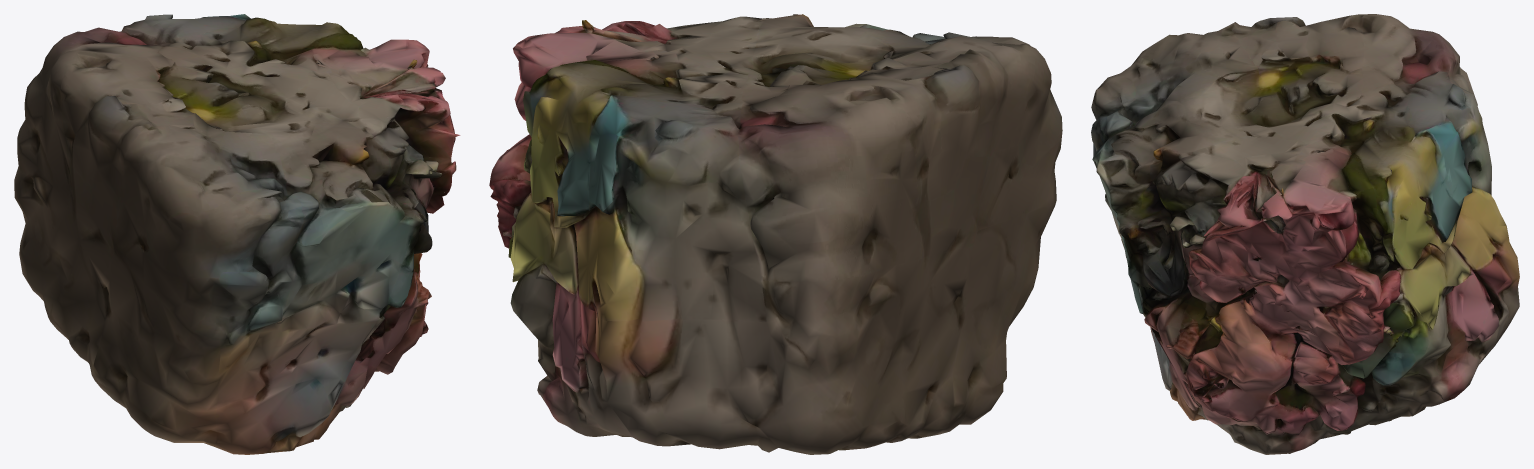
File: clay_sculpture.glb
The picture shows the model from 3 angles, left to right: view 1: azimuth 30°, elevation 25°; view 2: azimuth 150°, elevation 25°; view 3: azimuth 270°, elevation 25°; orthographic projection. The views are drawn at different scales.
Visible parts, largest first — view 1: tripo_node_fe8825cc; view 2: tripo_node_fe8825cc; view 3: tripo_node_fe8825cc.
Boxes of the visible parts, left/top/right/bottom form: tripo_node_fe8825cc: left=14, top=14, right=460, bottom=454; tripo_node_fe8825cc: left=489, top=14, right=1062, bottom=454; tripo_node_fe8825cc: left=1091, top=14, right=1519, bottom=454.
Size of the model in its own units: 0.8997 by 0.8516 by 0.979.
1 material, 1 textured.
